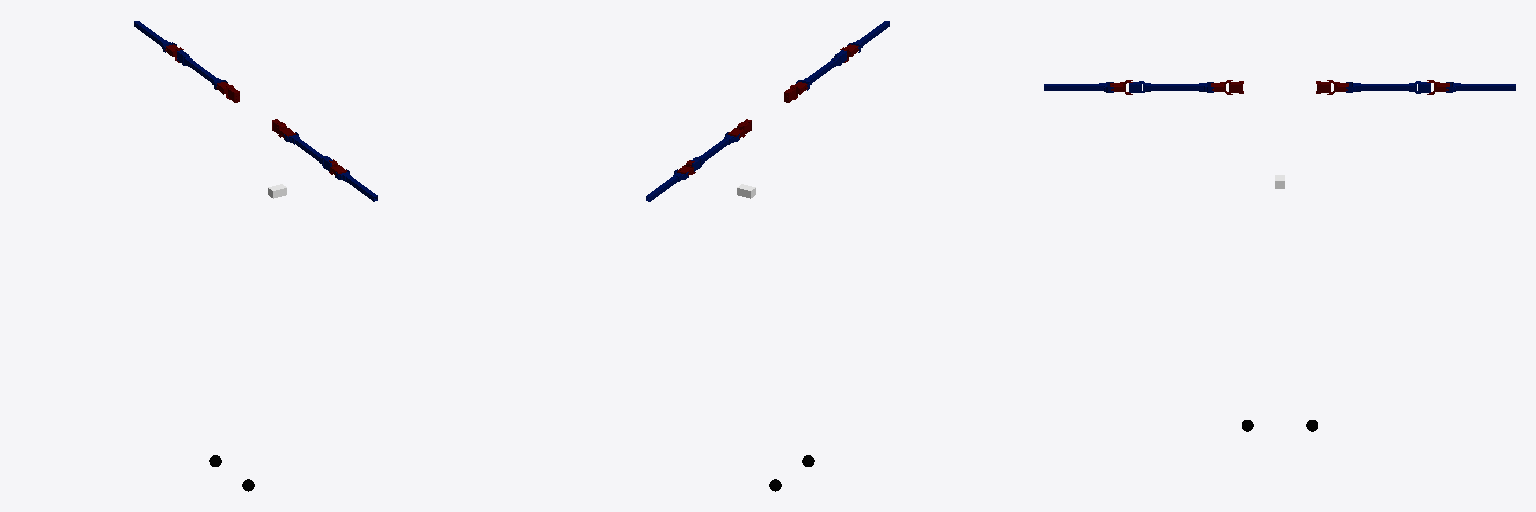
The robot description file, URDF, robot "mechelangelo_final":
<robot name="mechelangelo_final">

  <!-- Materials for RViz. DAE embedded materials may still display depending on RViz settings. -->
  <material name="gunmetal">
    <color rgba="0.07 0.07 0.07 1.0"/>
  </material>
  <material name="hot_red">
    <color rgba="0.35 0.01 0.01 1.0"/>
  </material>
  <material name="hot_blue">
    <color rgba="0.00 0.08 0.38 1.0"/>
  </material>
  <material name="white">
    <color rgba="1.0 1.0 1.0 1.0"/>
  </material>
  <material name="black">
    <color rgba="0.02 0.02 0.02 1.0"/>
  </material>

  <!-- =========================
       BASE
       ========================= -->
  <link name="base_link">
    <inertial>
      <origin xyz="0 0 0.10" rpy="0 0 0"/>
      <mass value="12.0"/>
      <inertia ixx="0.30" ixy="0" ixz="0" iyy="0.40" iyz="0" izz="0.50"/>
    </inertial>
    <visual name="base_visual">
      <origin xyz="0 0 0" rpy="0 0 0"/>
      <geometry>
        <mesh filename="package://mechelangelo_description/meshes/base_final/final_design_body.dae" scale="1 1 1"/>
      </geometry>
      <material name="gunmetal"/>
    </visual>
    <collision name="base_collision">
      <origin xyz="0 0 0.10" rpy="0 0 0"/>
      <geometry>
        <mesh filename="package://mechelangelo_description/meshes/base_final/final_design_body.dae" scale="1 1 1"/>
      </geometry>
    </collision>
  </link>

  <!-- =========================
       DRIVEN WHEELS
       ========================= -->
  <link name="wheel_left_link">
    <inertial>
      <origin xyz="0 0 0" rpy="0 0 0"/>
      <mass value="1.0"/>
      <inertia ixx="0.002" ixy="0" ixz="0" iyy="0.001" iyz="0" izz="0.002"/>
    </inertial>
    <visual name="wheel_left_visual">
      <origin xyz="0 0 0" rpy="0 0 0"/>
      <geometry>
        <mesh filename="package://mechelangelo_description/meshes/wheels/wheel.dae" scale="1 1 1"/>
      </geometry>
    </visual>
    <collision name="wheel_left_collision">
      <origin xyz="0 0 0" rpy="1.5708 0 0"/>
      <geometry>
        <cylinder radius="0.075" length="0.03"/>
      </geometry>
    </collision>
  </link>

  <link name="wheel_right_link">
    <inertial>
      <origin xyz="0 0 0" rpy="0 0 0"/>
      <mass value="1.0"/>
      <inertia ixx="0.002" ixy="0" ixz="0" iyy="0.001" iyz="0" izz="0.002"/>
    </inertial>
    <visual name="wheel_right_visual">
      <origin xyz="0 0 0" rpy="0 0 0"/>
      <geometry>
        <mesh filename="package://mechelangelo_description/meshes/wheels/wheel.dae" scale="1 1 1"/>
      </geometry>
    </visual>
    <collision name="wheel_right_collision">
      <origin xyz="0 0 0" rpy="1.5708 0 0"/>
      <geometry>
        <cylinder radius="0.075" length="0.03"/>
      </geometry>
    </collision>
  </link>

  <joint name="left_wheel_joint" type="continuous">
    <parent link="base_link"/>
    <child link="wheel_left_link"/>
    <origin xyz="0.113 0.203 0.075" rpy="0 0 0"/>
    <axis xyz="0 1 0"/>
  </joint>
  <joint name="right_wheel_joint" type="continuous">
    <parent link="base_link"/>
    <child link="wheel_right_link"/>
    <origin xyz="0.113 -0.203 0.075" rpy="0 0 0"/>
    <axis xyz="0 1 0"/>
  </joint>

  <!-- =========================
       CASTER WHEELS
       ========================= -->
  <link name="caster_left_link">
    <inertial>
      <origin xyz="0 0 0" rpy="0 0 0"/>
      <mass value="0.2"/>
      <inertia ixx="0.0001" ixy="0" ixz="0" iyy="0.0001" iyz="0" izz="0.0001"/>
    </inertial>
    <visual name="caster_left_visual">
      <origin xyz="0 0 0" rpy="0 0 0"/>
      <geometry>
        <sphere radius="0.03"/>
      </geometry>
      <material name="black"/>
    </visual>
    <collision name="caster_left_collision">
      <origin xyz="0 0 0" rpy="0 0 0"/>
      <geometry>
        <sphere radius="0.03"/>
      </geometry>
    </collision>
  </link>

  <link name="caster_right_link">
    <inertial>
      <origin xyz="0 0 0" rpy="0 0 0"/>
      <mass value="0.2"/>
      <inertia ixx="0.0001" ixy="0" ixz="0" iyy="0.0001" iyz="0" izz="0.0001"/>
    </inertial>
    <visual name="caster_right_visual">
      <origin xyz="0 0 0" rpy="0 0 0"/>
      <geometry>
        <sphere radius="0.03"/>
      </geometry>
      <material name="black"/>
    </visual>
    <collision name="caster_right_collision">
      <origin xyz="0 0 0" rpy="0 0 0"/>
      <geometry>
        <sphere radius="0.03"/>
      </geometry>
    </collision>
  </link>

  <joint name="caster_left_joint" type="fixed">
    <parent link="base_link"/>
    <child link="caster_left_link"/>
    <origin xyz="-0.135 0.160 0.030" rpy="0 0 0"/>
  </joint>
  <joint name="caster_right_joint" type="fixed">
    <parent link="base_link"/>
    <child link="caster_right_link"/>
    <origin xyz="-0.135 -0.160 0.030" rpy="0 0 0"/>
  </joint>

  <!-- =========================
       SENSORS
       ========================= -->
  <link name="imu_link">
    <inertial>
      <origin xyz="0 0 0" rpy="0 0 0"/>
      <mass value="0.01"/>
      <inertia ixx="0.000001" ixy="0" ixz="0" iyy="0.000001" iyz="0" izz="0.000001"/>
    </inertial>
  </link>

  <joint name="imu_joint" type="fixed">
    <parent link="base_link"/>
    <child link="imu_link"/>
    <origin xyz="0 0 0.068" rpy="0 0 0"/>
  </joint>

  <link name="base_scan">
    <inertial>
      <origin xyz="0 0 0" rpy="0 0 0"/>
      <mass value="0.01"/>
      <inertia ixx="0.000001" ixy="0" ixz="0" iyy="0.000001" iyz="0" izz="0.000001"/>
    </inertial>
    <visual name="lidar_visual">
      <origin xyz="0 0 0" rpy="0 0 0"/>
      <geometry>
        <mesh filename="package://mechelangelo_description/meshes/sensors/lds.stl" scale="0.001 0.001 0.001"/>
      </geometry>
    </visual>
  </link>

  <joint name="scan_joint" type="fixed">
    <parent link="base_link"/>
    <child link="base_scan"/>
    <origin xyz="0 0 0.280" rpy="0 0 0"/>
  </joint>

  <link name="camera_link">
    <inertial>
      <origin xyz="0 0 0" rpy="0 0 0"/>
      <mass value="0.01"/>
      <inertia ixx="0.000001" ixy="0" ixz="0" iyy="0.000001" iyz="0" izz="0.000001"/>
    </inertial>
    <visual name="camera_visual">
      <origin xyz="0 0 0" rpy="0 0 0"/>
      <geometry>
        <box size="0.08 0.05 0.04"/>
      </geometry>
      <material name="white"/>
    </visual>
  </link>

  <joint name="camera_joint" type="fixed">
    <parent link="base_link"/>
    <child link="camera_link"/>
    <origin xyz="0.12 0 1.48" rpy="0 0 0"/>
  </joint>

  <!-- Servo convention:
       Physical servo range = 240 degrees total.
       Straight-out arm pose = physical servo centre = 120 degrees.
       In URDF this straight-out pose is joint angle 0 radians.
       Therefore active arm servo joints are limited to +/-120 degrees, or +/-2.0944 radians.
       -->

  <!-- =========================
       LEFT ARM: ID4 + ID3 + ID2 + ID1 + HAND
       ========================= -->
  <link name="left_id4_link">
    <inertial>
      <origin xyz="0 0 0" rpy="1.5708 0 0"/>
      <mass value="0.60"/>
      <inertia ixx="0.004" ixy="0" ixz="0" iyy="0.004" iyz="0" izz="0.004"/>
    </inertial>
    <visual name="left_id4_visual">
      <origin xyz="0 0 0" rpy="1.5708 0 0"/>
      <geometry>
        <mesh filename="package://mechelangelo_description/meshes/Arms/ID4_Dae/ID4.dae" scale="1 1 1"/>
      </geometry>
      <material name="hot_red"/>
    </visual>
    <collision name="left_id4_link_simple_collision"><origin xyz="0" rpy="0 0 0"/><geometry><box size="0.12 0.12 0.12"/></geometry></collision></link>

  <joint name="left_id4_mount_joint" type="fixed">
    <parent link="base_link"/>
    <child link="left_id4_link"/>
    <origin xyz="0 0.2378 1.9375" rpy="0 0 0"/>
  </joint>

  <link name="left_id3_link">
    <inertial>
      <origin xyz="0 0 0" rpy="-1.5708 0 0"/>
      <mass value="0.45"/>
      <inertia ixx="0.003" ixy="0" ixz="0" iyy="0.003" iyz="0" izz="0.003"/>
    </inertial>
    <visual name="left_id3_visual">
      <origin xyz="0 0 0" rpy="-1.5708 0 0"/>
      <geometry>
        <mesh filename="package://mechelangelo_description/meshes/Arms/ID3_Dae/ID3.dae" scale="1 1 1"/>
      </geometry>
      <material name="hot_red"/>
    </visual>
    <collision name="left_id3_link_simple_collision"><origin xyz="0 0.046685" rpy="0 0 0"/><geometry><box size="0.09 0.09337 0.09"/></geometry></collision></link>

  <joint name="left_joint1" type="revolute">
    <parent link="left_id4_link"/>
    <child link="left_id3_link"/>
    <origin xyz="0 0 0" rpy="0 0 0"/>
    <axis xyz="0 0 1"/>
    <!-- Physical servo range: 240 deg total. URDF zero = physical servo centre at 120 deg, so limits are +/-120 deg. -->
    <limit lower="-2.0944" upper="2.0944" effort="25" velocity="1.5"/>
  </joint>

  <link name="left_id2_link">
    <inertial>
      <origin xyz="0 0 0" rpy="1.5708 0 0"/>
      <mass value="0.80"/>
      <inertia ixx="0.020" ixy="0" ixz="0" iyy="0.020" iyz="0" izz="0.005"/>
    </inertial>
    <visual name="left_id2_visual">
      <origin xyz="0 0 0" rpy="1.5708 0 0"/>
      <geometry>
        <mesh filename="package://mechelangelo_description/meshes/Arms/ID2_DAE/id2.dae" scale="1 1 1"/>
      </geometry>
      <material name="hot_blue"/>
    </visual>
    <collision name="left_id2_link_simple_collision"><origin xyz="0 0.201435" rpy="0 0 0"/><geometry><box size="0.09 0.40287 0.09"/></geometry></collision></link>

  <joint name="left_joint2" type="revolute">
    <parent link="left_id3_link"/>
    <child link="left_id2_link"/>
    <origin xyz="0 0.09337 0" rpy="0 0 0"/>
    <axis xyz="1 0 0"/>
    <!-- Physical servo range: 240 deg total. URDF zero = physical servo centre at 120 deg, so limits are +/-120 deg. -->
    <limit lower="-2.0944" upper="2.0944" effort="20" velocity="1.5"/>
  </joint>

  <link name="left_id1_link">
    <inertial>
      <origin xyz="0 0 0" rpy="1.5708 0 0"/>
      <mass value="0.10"/>
      <inertia ixx="0.001" ixy="0" ixz="0" iyy="0.001" iyz="0" izz="0.001"/>
    </inertial>
    <visual name="left_id1_visual">
      <origin xyz="0 0 0" rpy="1.5708 0 3.1416"/>
      <geometry>
        <mesh filename="package://mechelangelo_description/meshes/Arms/ID1_DAE/ID1.dae" scale="1 1 1"/>
      </geometry>
      <material name="hot_red"/>
    </visual>
    <collision name="left_id1_link_simple_collision"><origin xyz="0 0.046685" rpy="0 0 0"/><geometry><box size="0.075 0.09337 0.075"/></geometry></collision></link>

  <joint name="left_joint3" type="revolute">
    <parent link="left_id2_link"/>
    <child link="left_id1_link"/>
    <origin xyz="0 0.40287 0" rpy="0 0 0"/>
    <axis xyz="0 0 1"/>
    <!-- Physical servo range: 240 deg total. URDF zero = physical servo centre at 120 deg, so limits are +/-120 deg. -->
    <limit lower="-2.0944" upper="2.0944" effort="15" velocity="1.5"/>
  </joint>

  <link name="left_hand_link">
    <inertial>
      <origin xyz="0 0 0" rpy="1.5708 0 0"/>
      <mass value="0.05"/>
      <inertia ixx="0.0005" ixy="0" ixz="0" iyy="0.0005" iyz="0" izz="0.0005"/>
    </inertial>
    <visual name="left_hand_visual">
      <origin xyz="0 0 0" rpy="1.5708 0 0"/>
      <geometry>
        <mesh filename="package://mechelangelo_description/meshes/Arms/hand_part_DAE/hand_part.dae" scale="1 1 1"/>
      </geometry>
      <material name="hot_blue"/>
    </visual>
    <collision name="left_hand_link_simple_collision"><origin xyz="0 0.04" rpy="0 0 0"/><geometry><box size="0.08 0.12 0.08"/></geometry></collision></link>

  <joint name="left_hand_joint" type="revolute">
    <parent link="left_id1_link"/>
    <child link="left_hand_link"/>
    <origin xyz="0 0.09337 0" rpy="0 0 0"/>
    <axis xyz="1 0 0"/>
    <!-- Physical servo range: 240 deg total. URDF zero = physical servo centre at 120 deg, so limits are +/-120 deg. -->
    <limit lower="-2.0944" upper="2.0944" effort="10" velocity="1.0"/>
  </joint>

  <!-- =========================
       RIGHT ARM: ID4 + ID3 + ID2 + ID1 + HAND
       ========================= -->
  <link name="right_id4_link">
    <inertial>
      <origin xyz="0 0 0" rpy="-1.5708 0 0"/>
      <mass value="0.60"/>
      <inertia ixx="0.004" ixy="0" ixz="0" iyy="0.004" iyz="0" izz="0.004"/>
    </inertial>
    <visual name="right_id4_visual">
      <origin xyz="0 0 0" rpy="-1.5708 0 0"/>
      <geometry>
        <mesh filename="package://mechelangelo_description/meshes/Arms/ID4_Dae/ID4.dae" scale="1 1 1"/>
      </geometry>
      <material name="hot_red"/>
    </visual>
    <collision name="right_id4_link_simple_collision"><origin xyz="0" rpy="0 0 0"/><geometry><box size="0.12 0.12 0.12"/></geometry></collision></link>

  <joint name="right_id4_mount_joint" type="fixed">
    <parent link="base_link"/>
    <child link="right_id4_link"/>
    <origin xyz="0 -0.2378 1.9375" rpy="0 0 0"/>
  </joint>

  <link name="right_id3_link">
    <inertial>
      <origin xyz="0 0 0" rpy="-1.5708 0 0"/>
      <mass value="0.45"/>
      <inertia ixx="0.003" ixy="0" ixz="0" iyy="0.003" iyz="0" izz="0.003"/>
    </inertial>
    <visual name="right_id3_visual">
      <origin xyz="0 0 0" rpy="1.5708 0 0"/>
      <geometry>
        <mesh filename="package://mechelangelo_description/meshes/Arms/ID3_Dae/ID3.dae" scale="1 1 1"/>
      </geometry>
      <material name="hot_red"/>
    </visual>
    <collision name="right_id3_link_simple_collision"><origin xyz="0 -0.046685" rpy="0 0 0"/><geometry><box size="0.09 0.09337 0.09"/></geometry></collision></link>

  <joint name="right_joint1" type="revolute">
    <parent link="right_id4_link"/>
    <child link="right_id3_link"/>
    <origin xyz="0 0 0" rpy="0 0 0"/>
    <axis xyz="0 0 1"/>
    <!-- Physical servo range: 240 deg total. URDF zero = physical servo centre at 120 deg, so limits are +/-120 deg. -->
    <limit lower="-2.0944" upper="2.0944" effort="25" velocity="1.5"/>
  </joint>

  <link name="right_id2_link">
    <inertial>
      <origin xyz="0 0 0" rpy="-1.5708 0 0"/>
      <mass value="0.80"/>
      <inertia ixx="0.020" ixy="0" ixz="0" iyy="0.020" iyz="0" izz="0.005"/>
    </inertial>
    <visual name="right_id2_visual">
      <origin xyz="0 0 0" rpy="-1.5708 0 0"/>
      <geometry>
        <mesh filename="package://mechelangelo_description/meshes/Arms/ID2_DAE/id2.dae" scale="1 1 1"/>
      </geometry>
      <material name="hot_blue"/>
    </visual>
    <collision name="right_id2_link_simple_collision"><origin xyz="0 -0.201435" rpy="0 0 0"/><geometry><box size="0.09 0.40287 0.09"/></geometry></collision></link>

  <joint name="right_joint2" type="revolute">
    <parent link="right_id3_link"/>
    <child link="right_id2_link"/>
    <origin xyz="0 -0.09337 0" rpy="0 0 0"/>
    <axis xyz="-1 0 0"/>
    <!-- Physical servo range: 240 deg total. URDF zero = physical servo centre at 120 deg, so limits are +/-120 deg. -->
    <limit lower="-2.0944" upper="2.0944" effort="20" velocity="1.5"/>
  </joint>

  <link name="right_id1_link">
    <inertial>
      <origin xyz="0 0 0" rpy="-1.5708 0 0"/>
      <mass value="0.10"/>
      <inertia ixx="0.001" ixy="0" ixz="0" iyy="0.001" iyz="0" izz="0.001"/>
    </inertial>
    <visual name="right_id1_visual">
      <origin xyz="0 0 0" rpy="-1.5708 0 -3.1416"/>
      <geometry>
        <mesh filename="package://mechelangelo_description/meshes/Arms/ID1_DAE/ID1.dae" scale="1 1 1"/>
      </geometry>
      <material name="hot_red"/>
    </visual>
    <collision name="right_id1_link_simple_collision"><origin xyz="0 -0.046685" rpy="0 0 0"/><geometry><box size="0.075 0.09337 0.075"/></geometry></collision></link>

  <joint name="right_joint3" type="revolute">
    <parent link="right_id2_link"/>
    <child link="right_id1_link"/>
    <origin xyz="0 -0.40287 0" rpy="0 0 0"/>
    <axis xyz="0 0 -1"/>
    <!-- Physical servo range: 240 deg total. URDF zero = physical servo centre at 120 deg, so limits are +/-120 deg. -->
    <limit lower="-2.0944" upper="2.0944" effort="15" velocity="1.5"/>
  </joint>

  <link name="right_hand_link">
    <inertial>
      <origin xyz="0 0 0" rpy="-1.5708 0 0"/>
      <mass value="0.05"/>
      <inertia ixx="0.0005" ixy="0" ixz="0" iyy="0.0005" iyz="0" izz="0.0005"/>
    </inertial>
    <visual name="right_hand_visual">
      <origin xyz="0 0 0" rpy="-1.5708 0 0"/>
      <geometry>
        <mesh filename="package://mechelangelo_description/meshes/Arms/hand_part_DAE/hand_part.dae" scale="1 1 1"/>
      </geometry>
      <material name="hot_blue"/>
    </visual>
    <collision name="right_hand_link_simple_collision"><origin xyz="0 -0.04" rpy="0 0 0"/><geometry><box size="0.08 0.12 0.08"/></geometry></collision></link>

  <joint name="right_hand_joint" type="revolute">
    <parent link="right_id1_link"/>
    <child link="right_hand_link"/>
    <origin xyz="0 -0.09337 0" rpy="0 0 0"/>
    <axis xyz="-1 0 0"/>
    <!-- Physical servo range: 240 deg total. URDF zero = physical servo centre at 120 deg, so limits are +/-120 deg. -->
    <limit lower="-2.0944" upper="2.0944" effort="10" velocity="1.0"/>
  </joint>

  <!-- =========================
       ROS2 CONTROL HARDWARE INTERFACE
       gazebo_ros2_control reads these tags to configure the Gazebo hardware plugin.
       Active joints: left/right joint1 (shoulder yaw), joint2 (upper arm pitch),
       joint3 (elbow/forearm pitch), and hand_joint (wrist pitch).
       ========================= -->
  <ros2_control name="mechelangelo_arm_control" type="system">
    <hardware>
      <plugin>gazebo_ros2_control/GazeboSystem</plugin>
    </hardware>

    <joint name="left_joint1">
      <command_interface name="position">
        <param name="min">-2.0944</param>
        <param name="max">2.0944</param>
      </command_interface>
      <state_interface name="position"/>
      <state_interface name="velocity"/>
    </joint>

    <joint name="left_joint2">
      <command_interface name="position">
        <param name="min">-2.0944</param>
        <param name="max">2.0944</param>
      </command_interface>
      <state_interface name="position"/>
      <state_interface name="velocity"/>
    </joint>



    <joint name="left_joint3">
      <command_interface name="position">
        <param name="min">-2.0944</param>
        <param name="max">2.0944</param>
      </command_interface>
      <state_interface name="position"/>
      <state_interface name="velocity"/>
    </joint>

    <joint name="left_hand_joint">
      <command_interface name="position">
        <param name="min">-2.0944</param>
        <param name="max">2.0944</param>
      </command_interface>
      <state_interface name="position"/>
      <state_interface name="velocity"/>
    </joint>

    <joint name="right_joint1">
      <command_interface name="position">
        <param name="min">-2.0944</param>
        <param name="max">2.0944</param>
      </command_interface>
      <state_interface name="position"/>
      <state_interface name="velocity"/>
    </joint>

    <joint name="right_joint2">
      <command_interface name="position">
        <param name="min">-2.0944</param>
        <param name="max">2.0944</param>
      </command_interface>
      <state_interface name="position"/>
      <state_interface name="velocity"/>
    </joint>



    <joint name="right_joint3">
      <command_interface name="position">
        <param name="min">-2.0944</param>
        <param name="max">2.0944</param>
      </command_interface>
      <state_interface name="position"/>
      <state_interface name="velocity"/>
    </joint>

    <joint name="right_hand_joint">
      <command_interface name="position">
        <param name="min">-2.0944</param>
        <param name="max">2.0944</param>
      </command_interface>
      <state_interface name="position"/>
      <state_interface name="velocity"/>
    </joint>
  </ros2_control>

</robot>

--- Facts derived from the render (not from the file) ---
3 views of the same robot in one strip: view 1: azimuth 30°, elevation 25°; view 2: azimuth 150°, elevation 25°; view 3: azimuth 270°, elevation 25° (orthographic).
Model mechelangelo_final with 18 links and 17 joints (8 revolute, 2 continuous, 7 fixed), rooted at base_link, posed every joint at zero.
Links seen in each view (by area): view 1: none; view 2: none; view 3: left_id2_link, right_id2_link.
Link boxes in pixels (<box>): left_id2_link: <box>1346,81,1430,93</box>; right_id2_link: <box>1129,81,1213,92</box>.
Size in the robot's own frame: 0.325 by 2.33 by 1.97 metres.
Meshes: 8 distinct files referenced, 10 mesh visuals loaded (5 Collada DAE); not drawn: 1 (reference not matched to a file when rendering), 3 (file found but could not be loaded).
